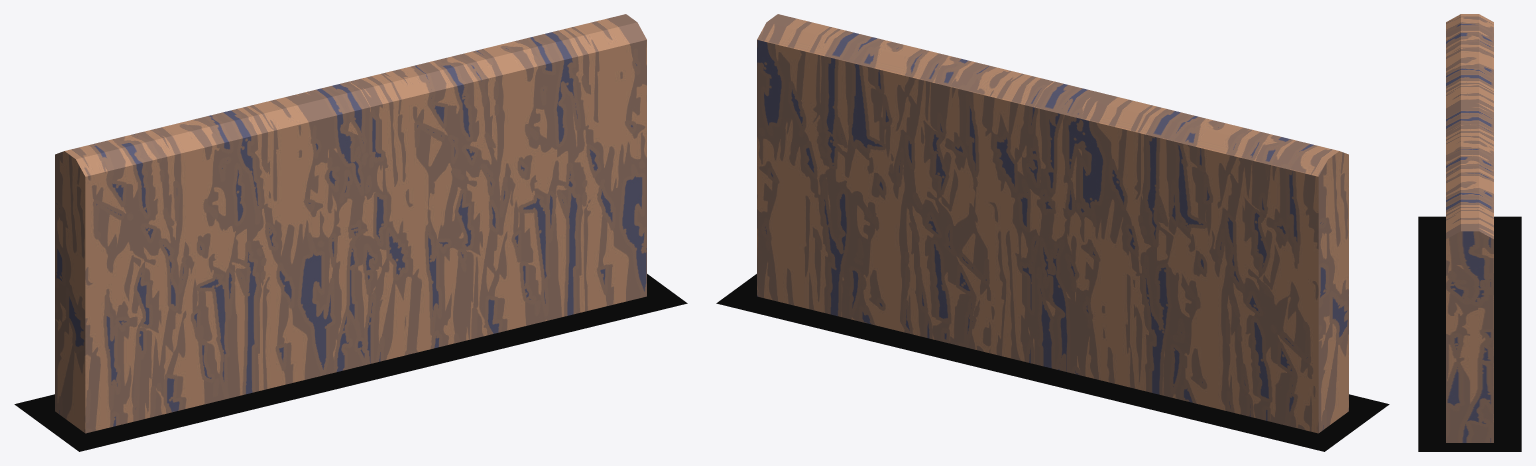
The model's file is Mur.fbx.
3 renders of one model, left to right at view 1: azimuth 30°, elevation 25°; view 2: azimuth 150°, elevation 25°; view 3: azimuth 270°, elevation 25°, orthographic. The views are drawn at different scales.
Visible parts, largest first — view 1: Plane; view 2: Plane; view 3: Plane.
Part boxes in pixels (x1,y1,x2,y2): Plane: [14, 14, 687, 451]; Plane: [716, 14, 1389, 451]; Plane: [1418, 14, 1521, 451].
Size of the model in its own units: 45068 by 19046 by 8366.
